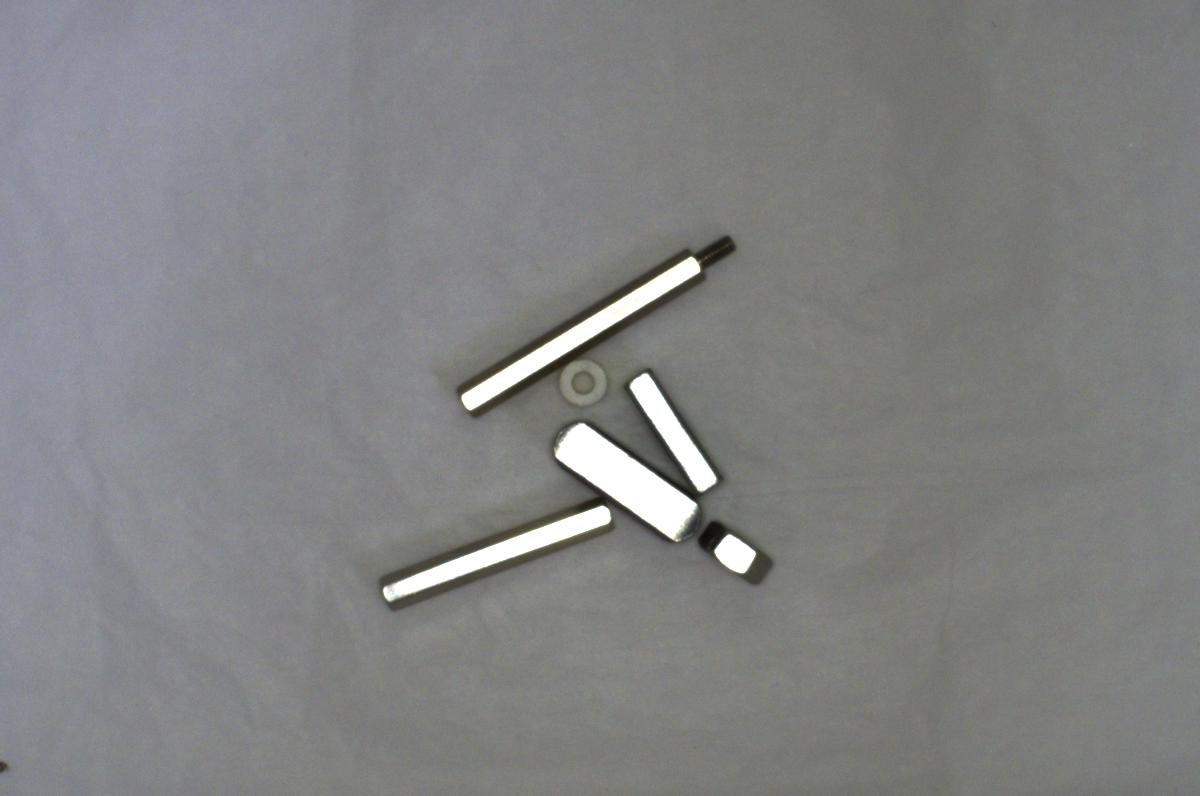Double hexagonal column: (370, 499, 619, 620)
Hexagon nut: (697, 516, 775, 588)
Hexagonal steel column: (457, 236, 735, 412)
Keybar: (547, 421, 702, 542)
Plastic cushion pillar: (557, 355, 610, 406)
Rectangular nut: (625, 362, 721, 499)
